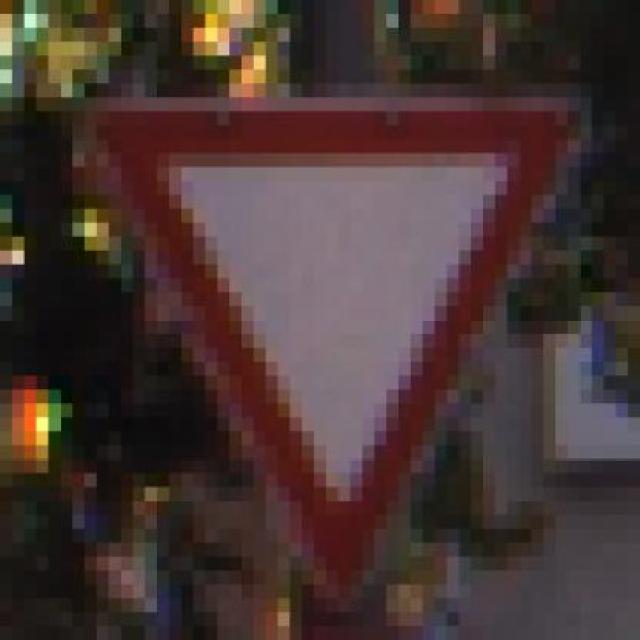Give Way: (48, 56, 580, 584)
